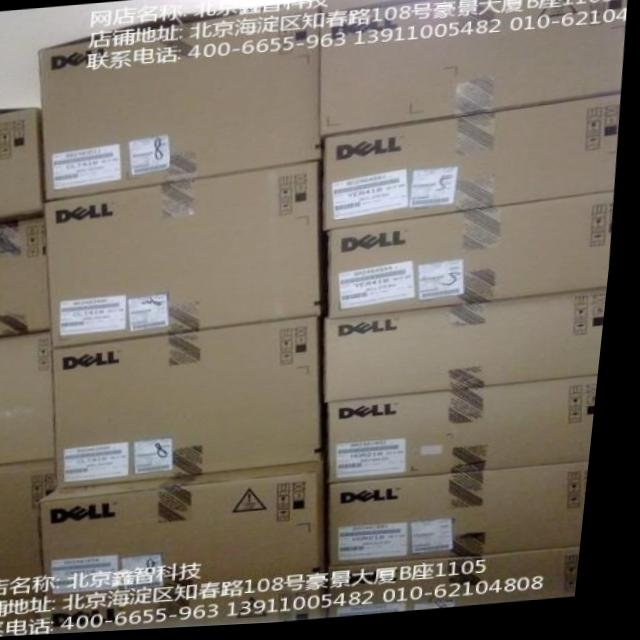box: (38, 5, 323, 199), (47, 166, 328, 349), (58, 320, 336, 488), (322, 0, 626, 139), (322, 97, 622, 234), (47, 465, 339, 596), (330, 198, 617, 325), (330, 295, 613, 408), (334, 379, 607, 486), (338, 468, 600, 573), (339, 554, 593, 619), (126, 577, 338, 631), (0, 459, 70, 603), (0, 331, 63, 467), (0, 216, 57, 338), (0, 592, 128, 638), (0, 107, 48, 223)
